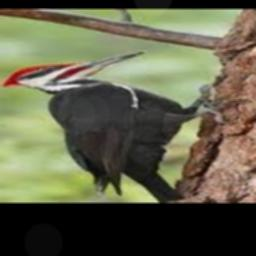Woodpecker: (1, 51, 241, 202)
